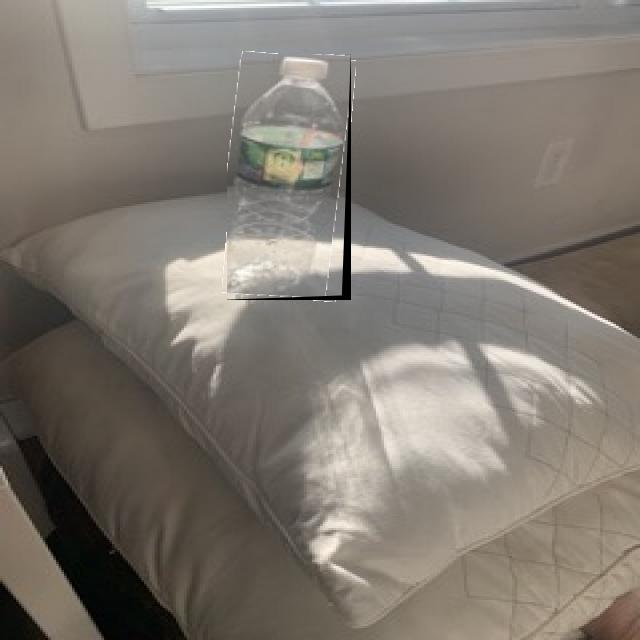water_bottle: (228, 54, 352, 300)
